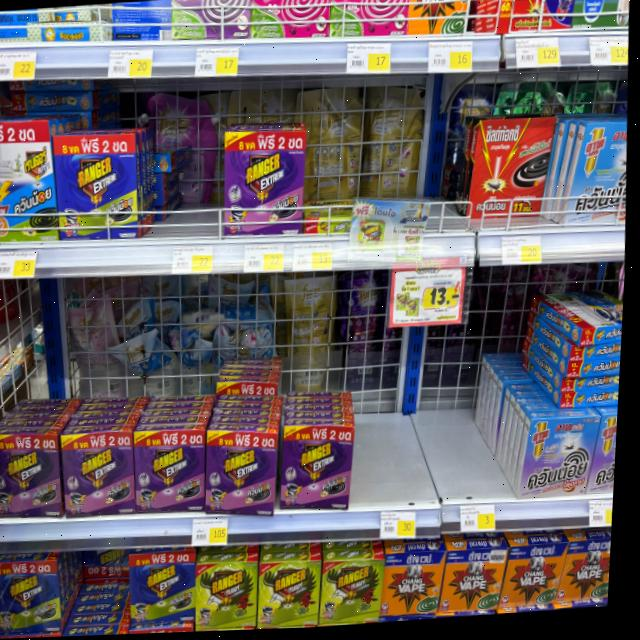empty_shelf: (351, 354, 515, 507), (300, 98, 474, 235), (139, 114, 223, 235), (60, 545, 129, 635)
